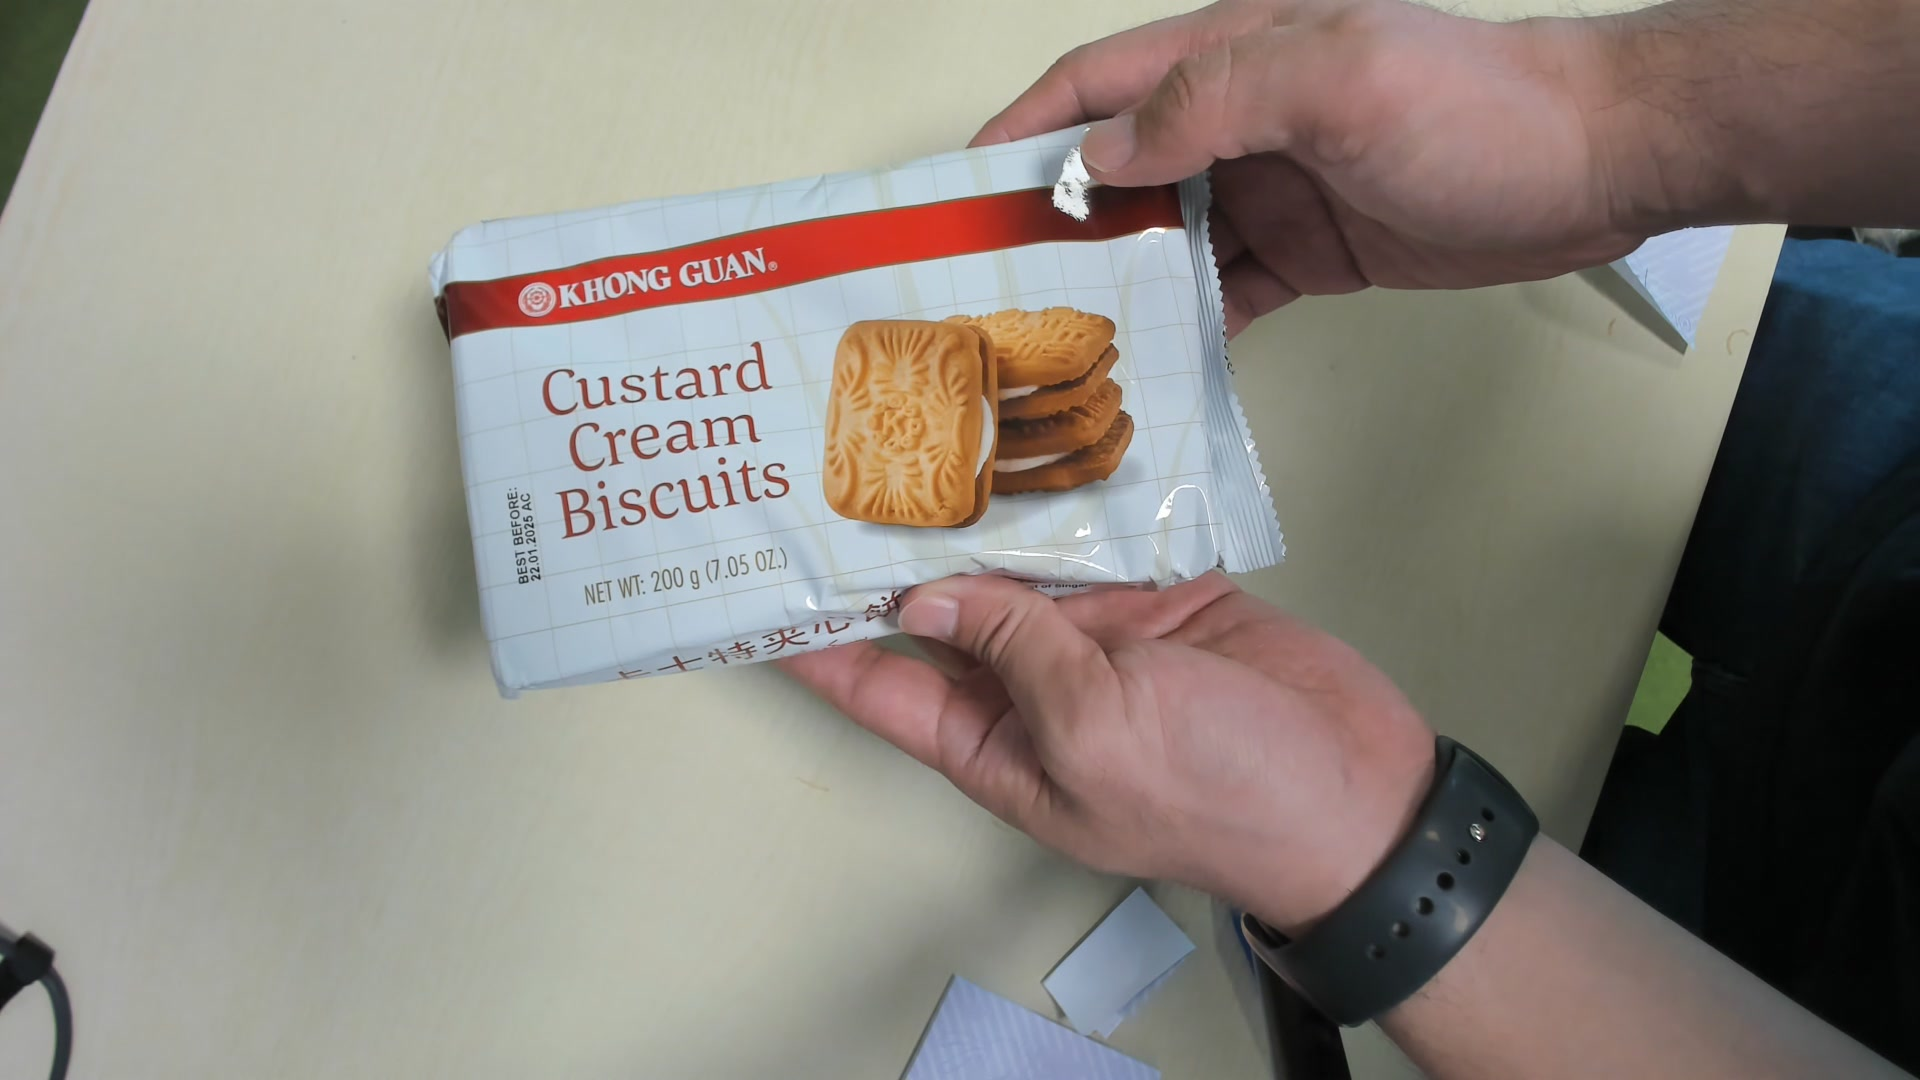BiscuitsCrackersCookies_200-299g_Halal_NonHealthy: (429, 99, 1280, 709)
